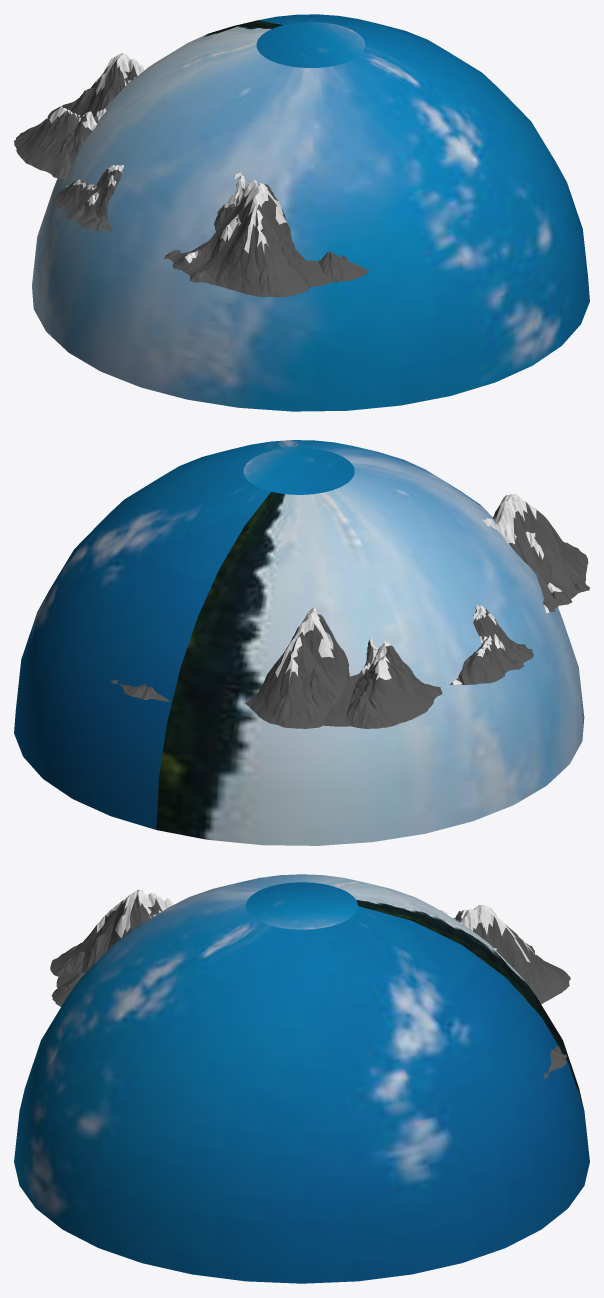
Rendered from Newponder_Farming_Environment.fbx.
3 views of the same model, one above another, from view 1: azimuth 30°, elevation 25°; view 2: azimuth 150°, elevation 25°; view 3: azimuth 270°, elevation 25° (orthographic). The views are drawn at different scales.
Visible parts, largest first — view 1: Sphere001, Mountain.004, Mountain, Mountain.003; view 2: Sphere001, Mountain, Mountain.004, Mountain.003; view 3: Sphere001, Mountain.004, Mountain.
Part boxes in pixels (left/top/right/bottom): Sphere001: left=32, top=14, right=589, bottom=411; Mountain.004: left=164, top=172, right=369, bottom=297; Mountain: left=14, top=53, right=146, bottom=180; Mountain.003: left=52, top=165, right=123, bottom=231; Sphere001: left=14, top=440, right=584, bottom=845; Mountain: left=245, top=607, right=442, bottom=728; Mountain.004: left=482, top=494, right=589, bottom=612; Mountain.003: left=449, top=605, right=533, bottom=685; Sphere001: left=14, top=874, right=589, bottom=1283; Mountain.004: left=50, top=890, right=179, bottom=1006; Mountain: left=440, top=905, right=570, bottom=1004.
Size of the model in its own units: 119580 by 59790 by 119580.
